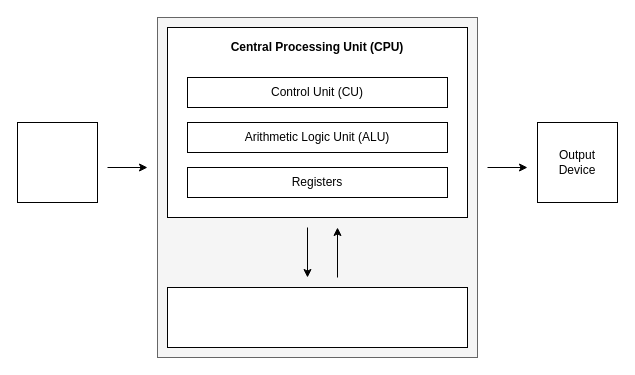
This 635x375 diagram has some shape labels left out. The box of each missing label's shape, as (x1, y1, x2, y2) in pixels:
Input Device: (16, 122, 98, 202)
Memory Unit: (166, 286, 468, 348)
